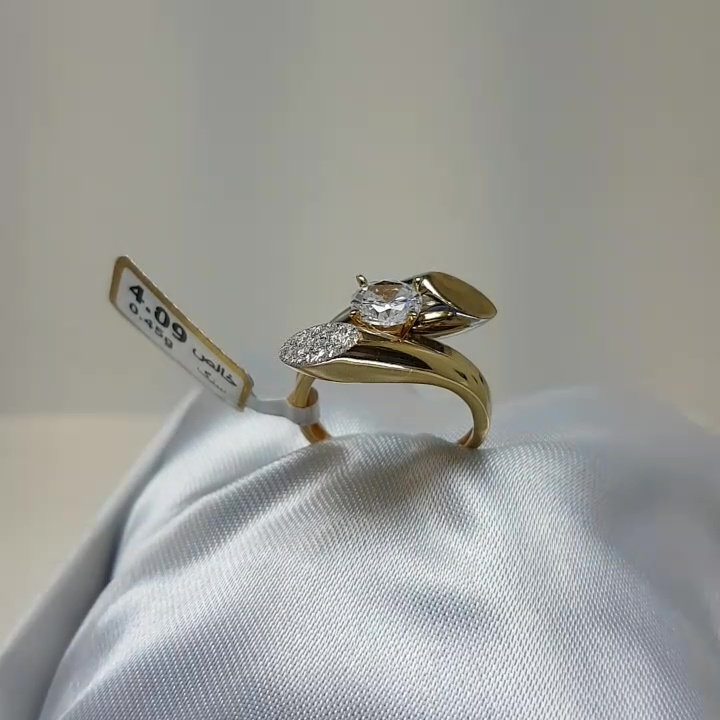Ring 7: (237, 228, 514, 481)
